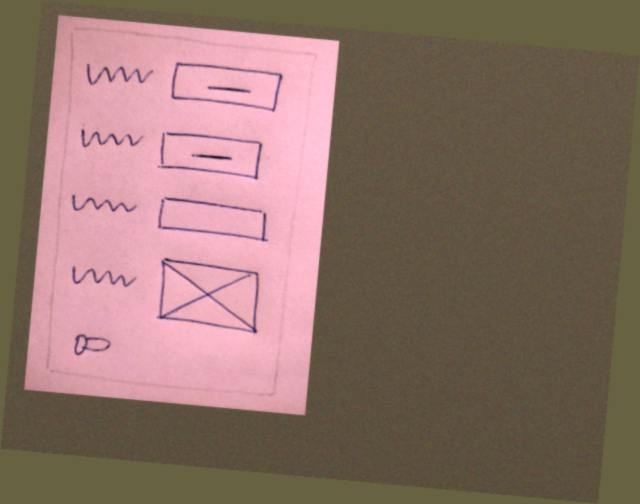button: (164, 58, 289, 117), (155, 126, 267, 183)
image: (149, 253, 266, 341)
switch: (69, 327, 113, 364)
text: (74, 118, 149, 159), (65, 257, 140, 298), (79, 56, 154, 96), (67, 185, 141, 225)
text_input: (153, 189, 275, 249)
